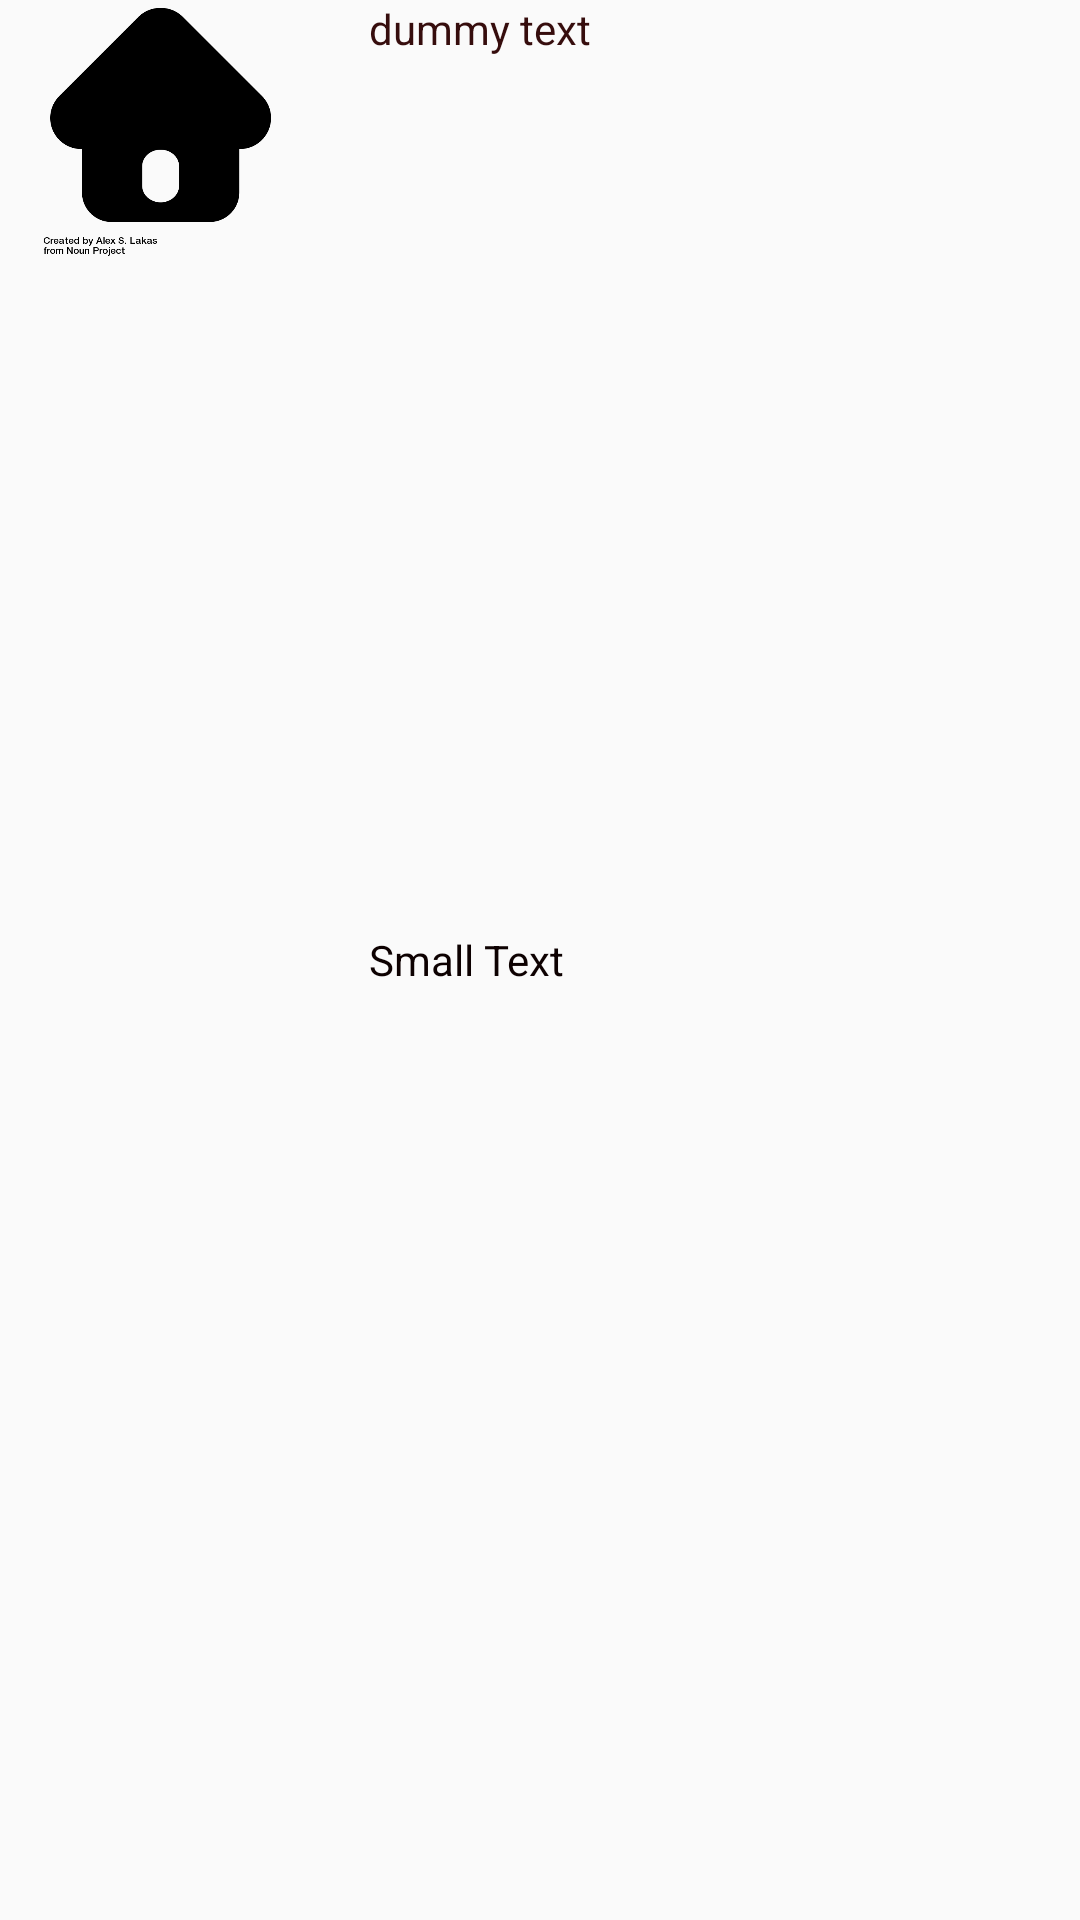

Screen size 1080px×1920px. Icon name, then its box in pixels as (x1, y1, x2, y2):
home: (44, 8, 271, 256)
